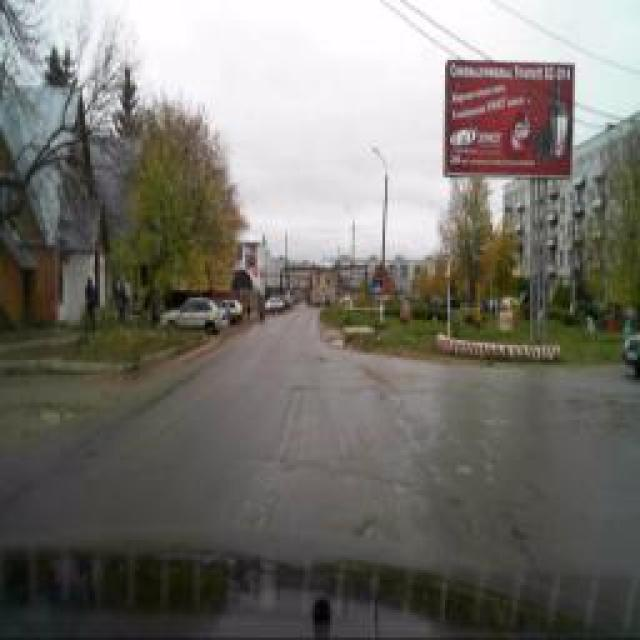sign: (442, 232, 452, 256)
